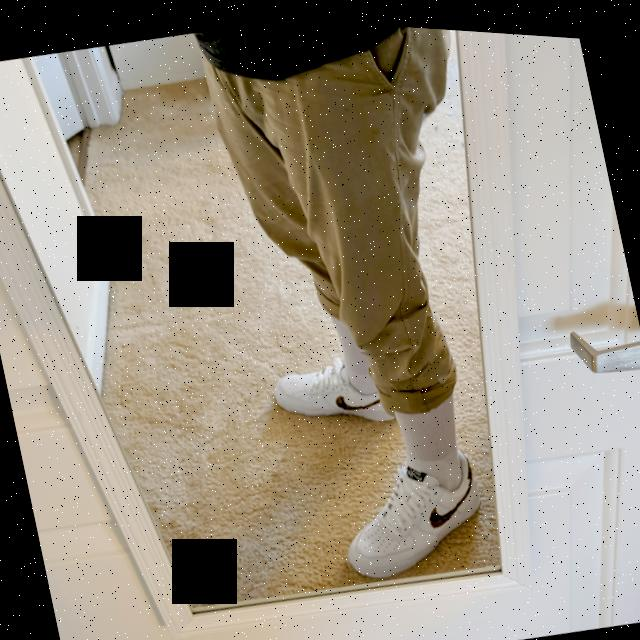shoe: (324, 434, 494, 587), (266, 332, 398, 437)
